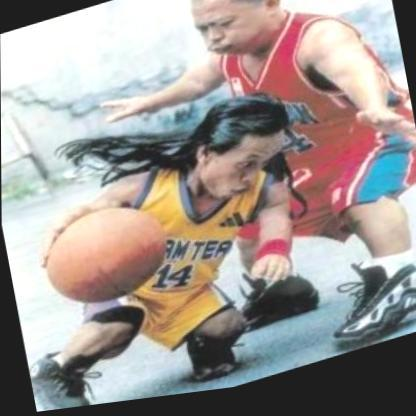basketball: (32, 183, 179, 325)
